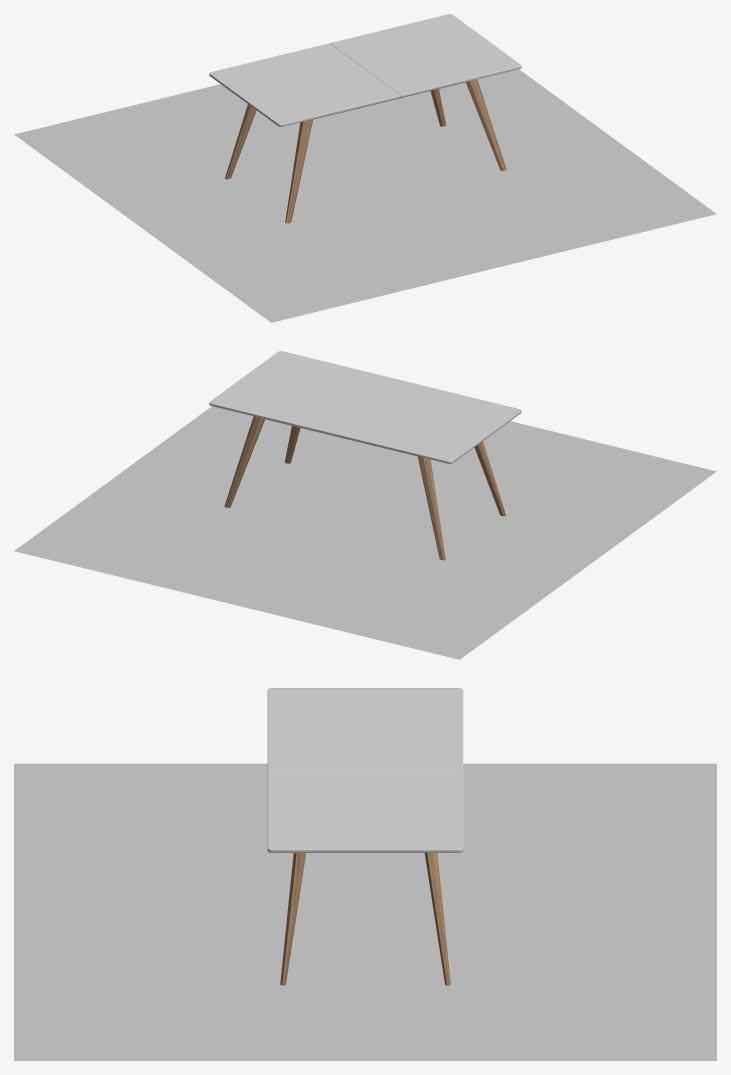
3 renders of one model, top to bottom at view 1: azimuth 30°, elevation 25°; view 2: azimuth 150°, elevation 25°; view 3: azimuth 270°, elevation 25°, orthographic. The views are drawn at different scales.
Parts seen in each view (by area): view 1: Plane001, Averio_Extending_Table_Dark_Stain_Oak_and_Grey, Averio_Extending_Table_Dark_Stain_Oak_and_Grey_DARK_STAIN_OA; view 2: Plane001, Averio_Extending_Table_Dark_Stain_Oak_and_Grey, Averio_Extending_Table_Dark_Stain_Oak_and_Grey_DARK_STAIN_OA; view 3: Plane001, Averio_Extending_Table_Dark_Stain_Oak_and_Grey, Averio_Extending_Table_Dark_Stain_Oak_and_Grey_DARK_STAIN_OA.
Part boxes in pixels (x1,y1,x2,y2): Plane001: [14, 69, 716, 322]; Averio_Extending_Table_Dark_Stain_Oak_and_Grey: [209, 14, 521, 126]; Averio_Extending_Table_Dark_Stain_Oak_and_Grey_DARK_STAIN_OA: [225, 79, 506, 223]; Plane001: [14, 406, 716, 659]; Averio_Extending_Table_Dark_Stain_Oak_and_Grey: [209, 351, 521, 463]; Averio_Extending_Table_Dark_Stain_Oak_and_Grey_DARK_STAIN_OA: [224, 416, 505, 560]; Plane001: [14, 763, 716, 1060]; Averio_Extending_Table_Dark_Stain_Oak_and_Grey: [267, 688, 463, 852]; Averio_Extending_Table_Dark_Stain_Oak_and_Grey_DARK_STAIN_OA: [280, 853, 450, 985].
Bounding box in the file's own units: 334 × 75.21 × 334.
Materials: 3 (2 with a texture image).
